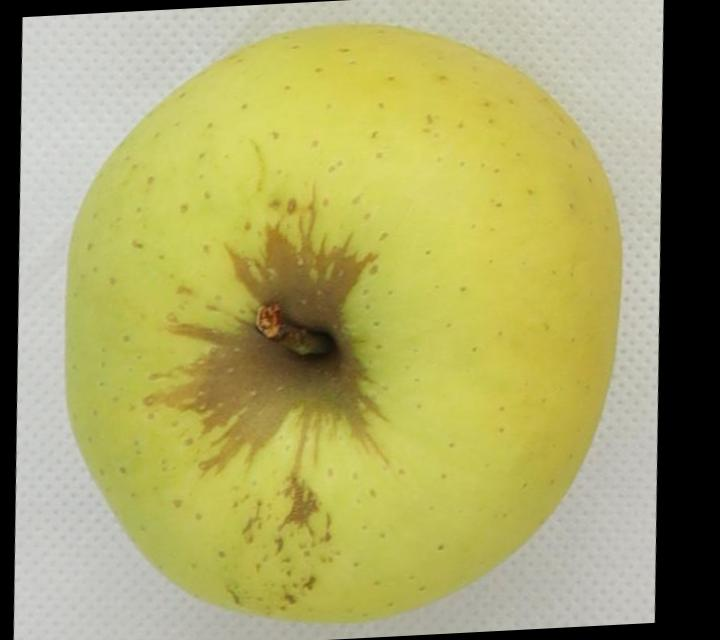apple: (66, 24, 619, 621)
bruise_discoloration: (141, 192, 387, 553)
